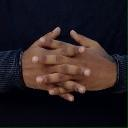hand: (32, 30, 117, 95), (19, 26, 90, 102)
